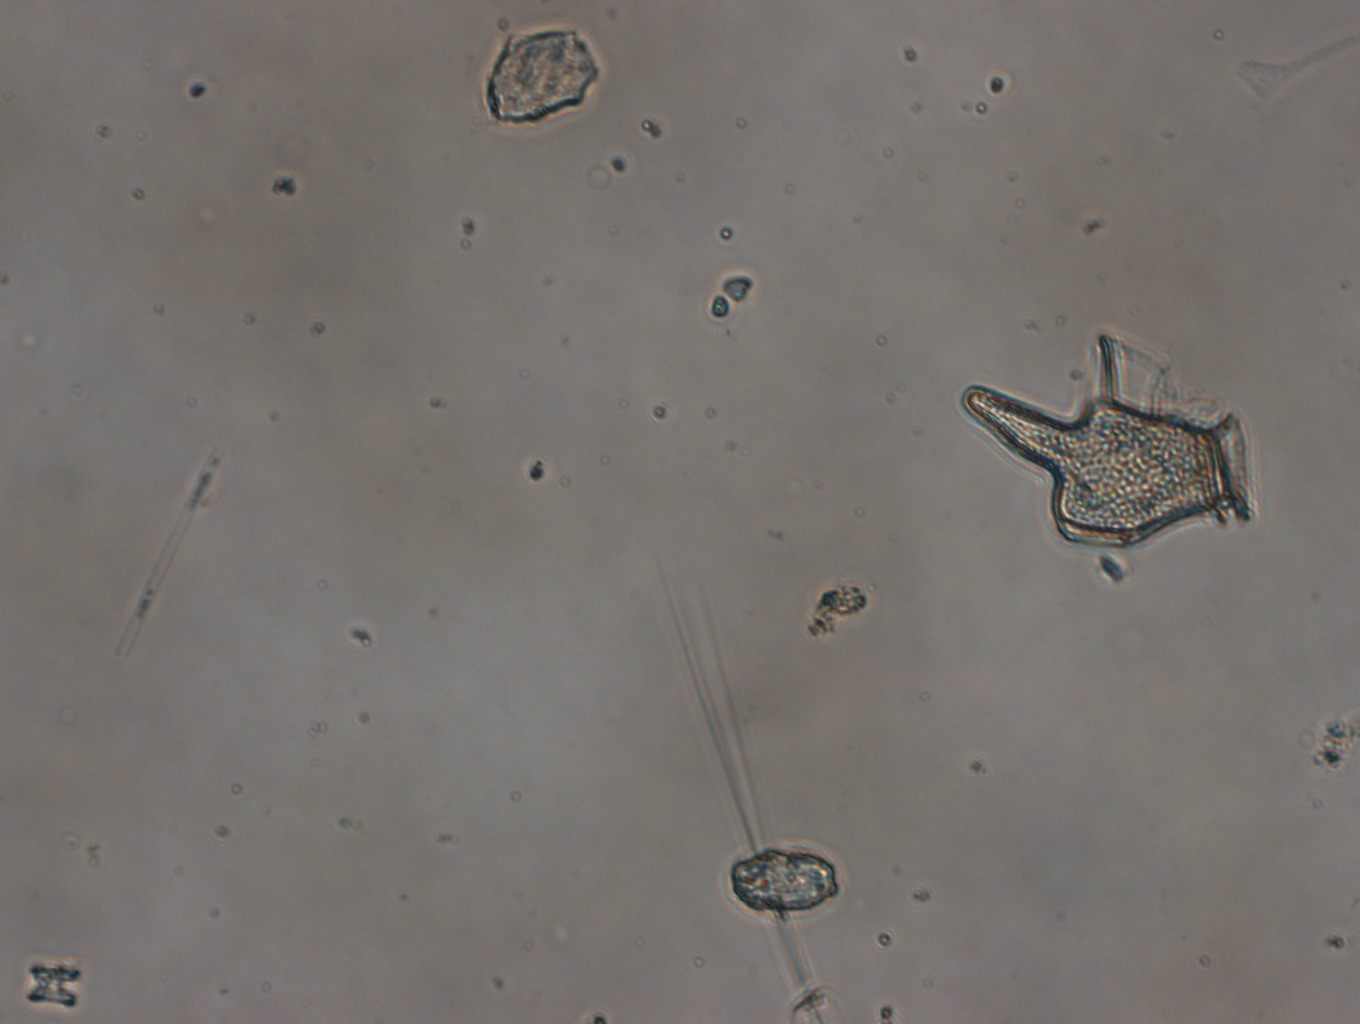dinophysis caudata: (957, 324, 1260, 552)
